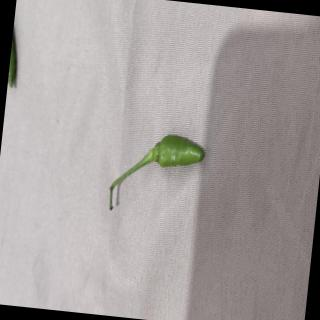Cabai Hijau: (103, 126, 212, 224)
